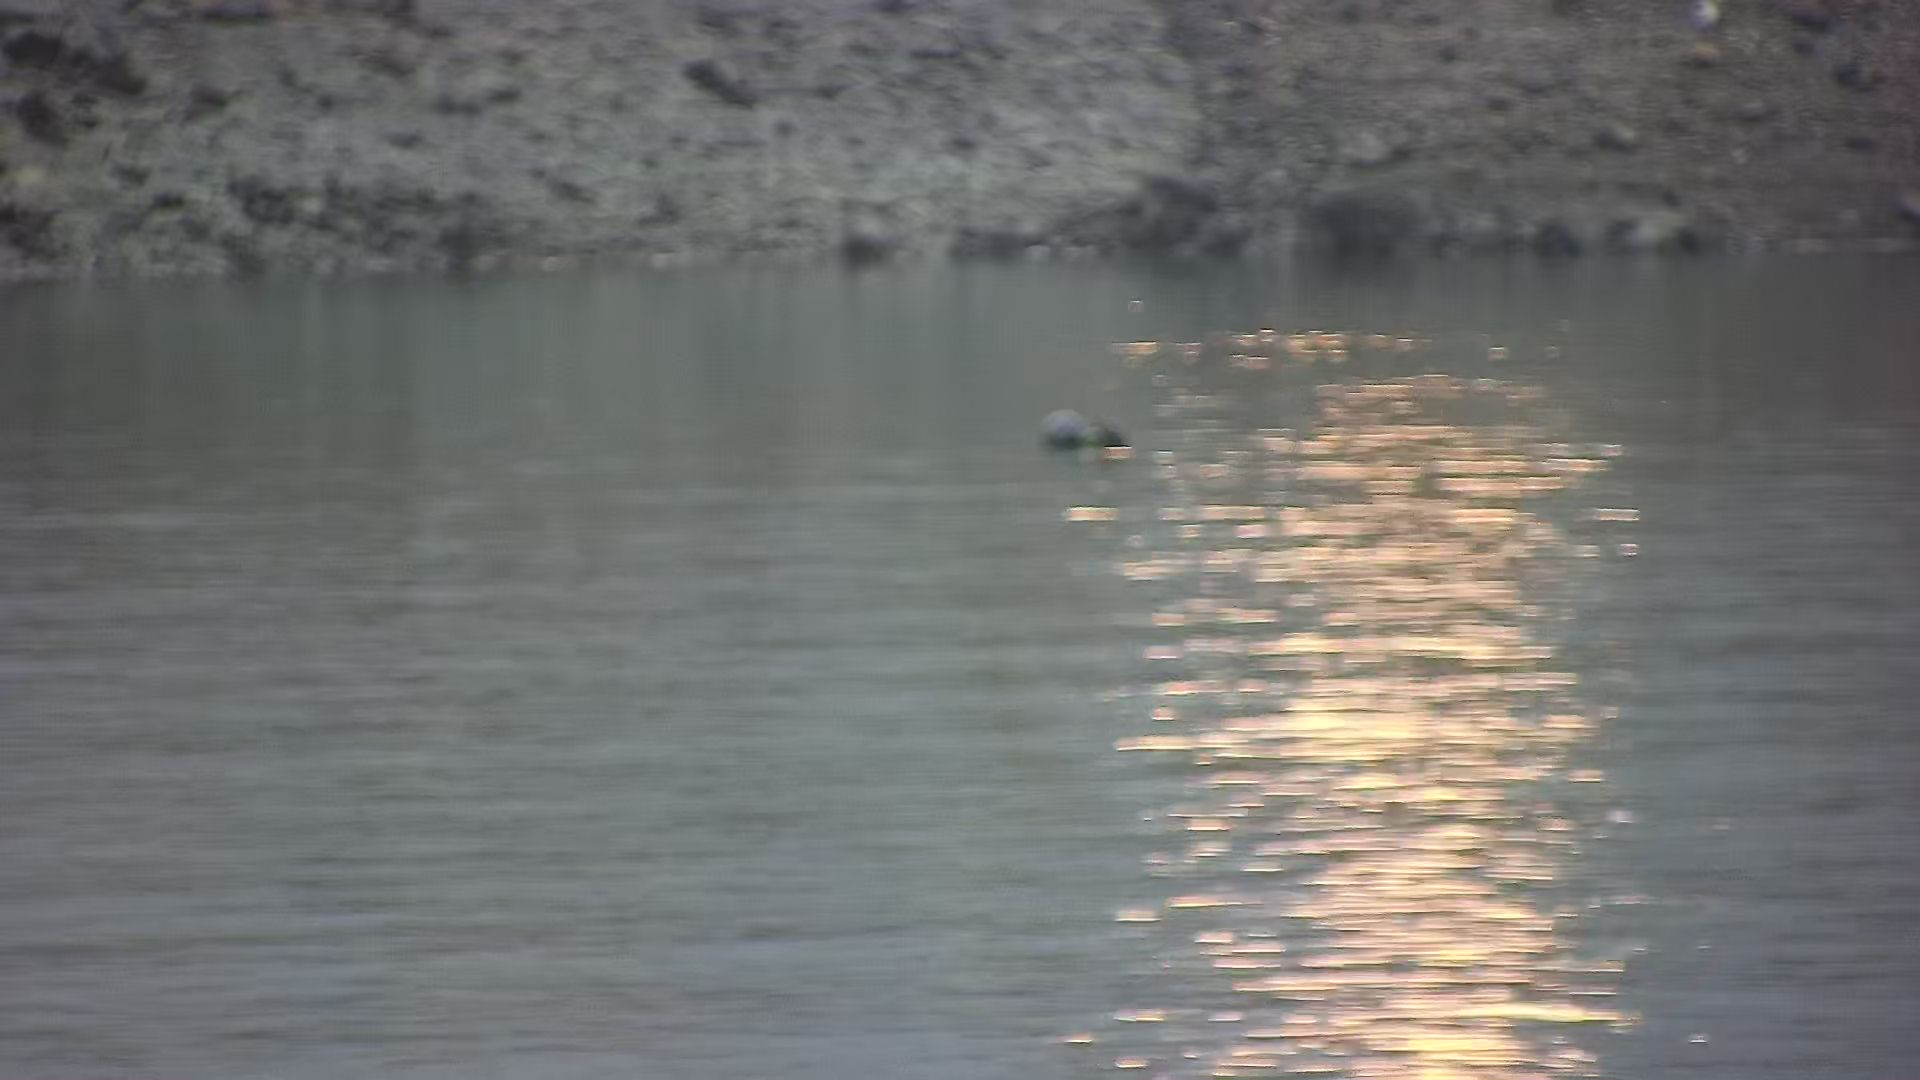rubbish: (1039, 407, 1127, 456)
